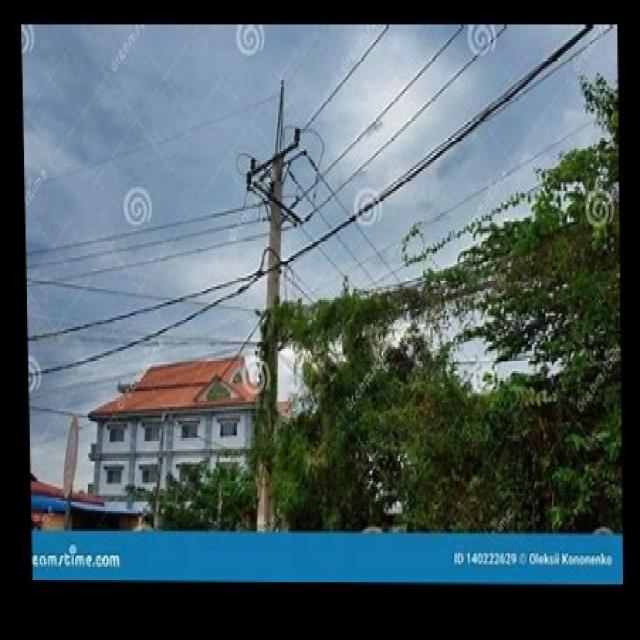utility poles: (257, 216, 623, 452)
